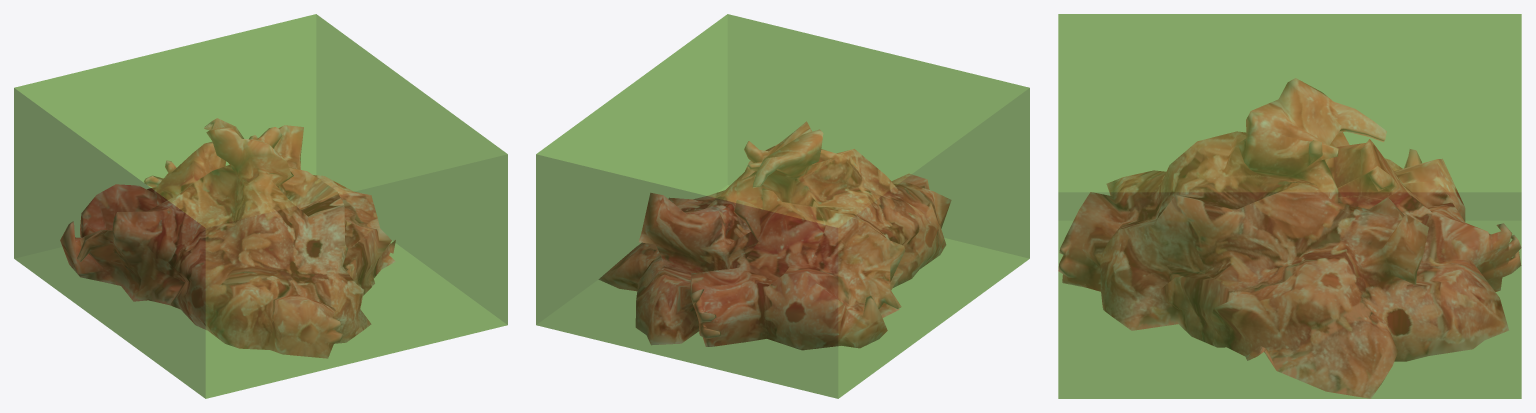
File: pg_dried_fruit_01_a.fbx
The picture shows the model from 3 angles, left to right: view 1: azimuth 30°, elevation 25°; view 2: azimuth 150°, elevation 25°; view 3: azimuth 270°, elevation 25°; orthographic projection. The views are drawn at different scales.
Visible parts, largest first — view 1: pg_dried_fruit_01_a_col, pg_dried_fruit_01_a_LOD0; view 2: pg_dried_fruit_01_a_col, pg_dried_fruit_01_a_LOD0; view 3: pg_dried_fruit_01_a_col, pg_dried_fruit_01_a_LOD0.
Part boxes in pixels (x1=…): pg_dried_fruit_01_a_col: x1=14, y1=14, x2=507, y2=398; pg_dried_fruit_01_a_LOD0: x1=60, y1=118, x2=395, y2=358; pg_dried_fruit_01_a_col: x1=536, y1=14, x2=1029, y2=398; pg_dried_fruit_01_a_LOD0: x1=598, y1=121, x2=951, y2=350; pg_dried_fruit_01_a_col: x1=1058, y1=14, x2=1521, y2=398; pg_dried_fruit_01_a_LOD0: x1=1058, y1=78, x2=1521, y2=398.
Size of what is drawn, in the model's own units: 30.89 by 16.7 by 33.92.
